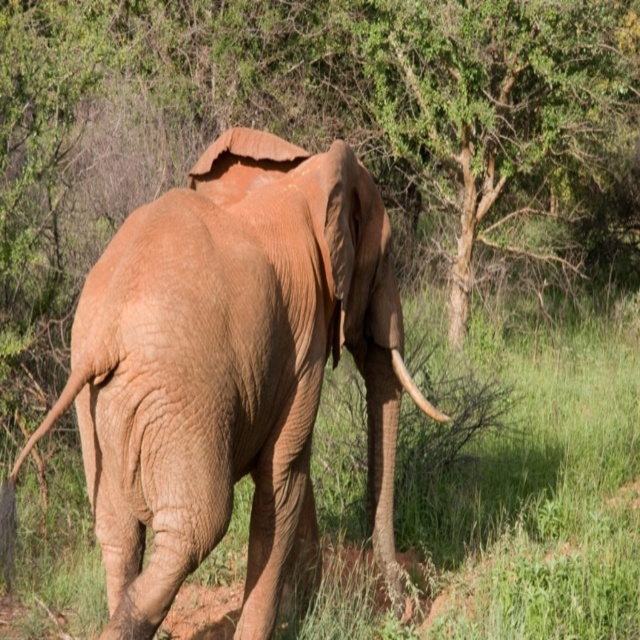Elephant: (0, 126, 452, 640)
